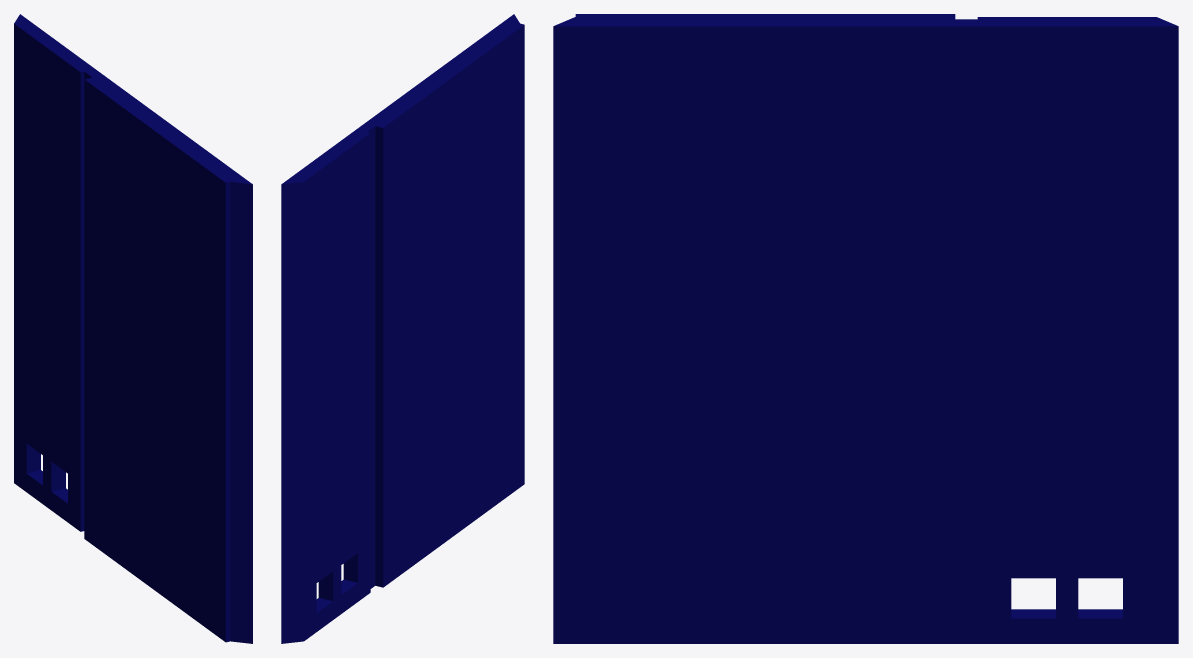
Rendered from original-20.obj.
3 renders of one model, left to right at view 1: azimuth 30°, elevation 25°; view 2: azimuth 150°, elevation 25°; view 3: azimuth 270°, elevation 25°, orthographic. The views are drawn at different scales.
Parts seen in each view (by area): view 1: Component_96_1/Component_96/mesh61/mesh61-geometry#mesh61-geomet; view 2: Component_96_1/Component_96/mesh61/mesh61-geometry#mesh61-geomet; view 3: Component_96_1/Component_96/mesh61/mesh61-geometry#mesh61-geomet.
Boxes of the visible parts, bbox=[...] form: Component_96_1/Component_96/mesh61/mesh61-geometry#mesh61-geomet: bbox=[14, 14, 252, 643]; Component_96_1/Component_96/mesh61/mesh61-geometry#mesh61-geomet: bbox=[281, 14, 524, 643]; Component_96_1/Component_96/mesh61/mesh61-geometry#mesh61-geomet: bbox=[553, 14, 1178, 643].
Bounding box in the file's own units: 0.0274 × 0.6406 × 0.5881.
